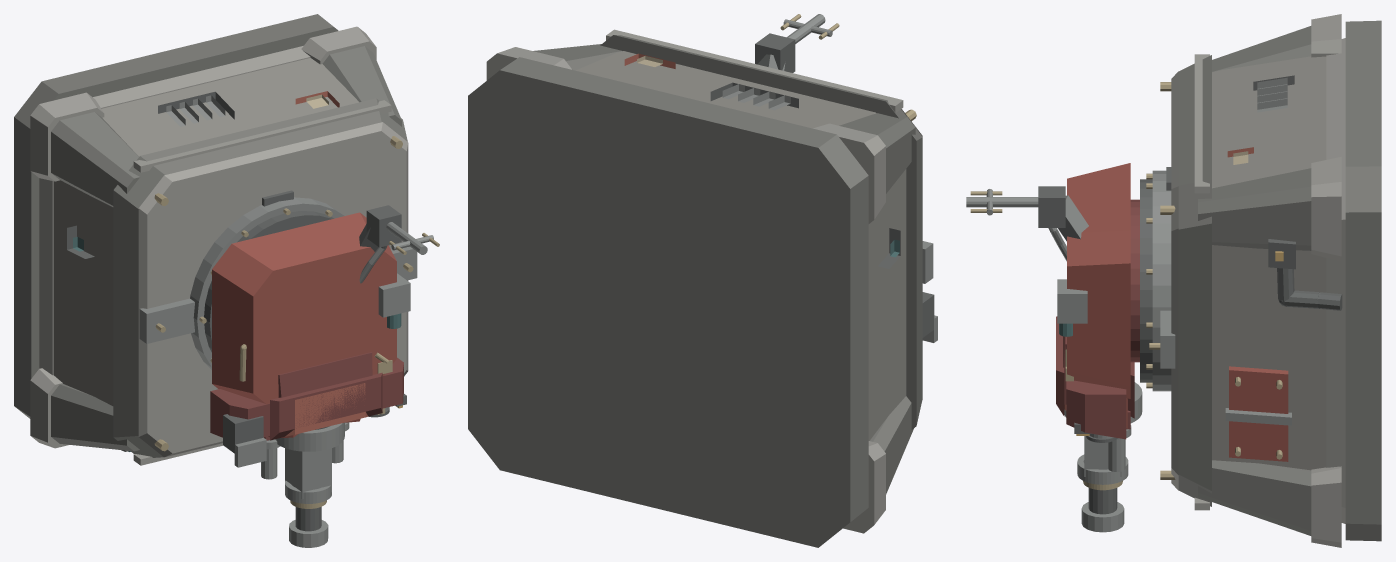
Rendered from martian_heavy_weapon_bunker_source_geometry_v05.glb.
The picture shows the model from 3 angles, left to right: view 1: azimuth 30°, elevation 25°; view 2: azimuth 150°, elevation 25°; view 3: azimuth 270°, elevation 25°; orthographic projection. The views are drawn at different scales.
Parts seen in each view (by area): view 1: 05_top_concrete_skin, 16_martian_red_turret_armor, 03_monolithic_bunker_mass, 01_foundation_granular_ferrocrete, 04_upper_blast_cap, 02_lower_blast_raft, 06_corner_armor_buttress_WN, 06_corner_armor_buttress_WS, 13_ring_lower_bearing_seat, 63_armored_turret_front_brow, 07_corner_buttress_foot_WN, 06_corner_armor_buttress_EN (+20 smaller); view 2: 01_foundation_granular_ferrocrete, 03_monolithic_bunker_mass, 04_upper_blast_cap, 07_corner_buttress_foot_WN, 06_corner_armor_buttress_WN, 06_corner_armor_buttress_WS, 07_corner_buttress_foot_WS, 54_north_slab_anchor_strip, 31_antenna_base, 06_corner_armor_buttress_EN, 07_corner_buttress_foot_EN; view 3: 03_monolithic_bunker_mass, 01_foundation_granular_ferrocrete, 04_upper_blast_cap, 16_martian_red_turret_armor, 06_corner_armor_buttress_EN, 02_lower_blast_raft, 06_corner_armor_buttress_ES, 55_east_wall_controller_armor, 13_ring_lower_bearing_seat, 05_top_concrete_skin, 07_corner_buttress_foot_EN, 18_turret_front_cheek_E (+21 smaller).
Part boxes in pixels (x1=…): 05_top_concrete_skin: x1=138, y1=122, x2=408, y2=457; 16_martian_red_turret_armor: x1=212, y1=212, x2=396, y2=404; 03_monolithic_bunker_mass: x1=53, y1=58, x2=358, y2=405; 01_foundation_granular_ferrocrete: x1=14, y1=14, x2=338, y2=418; 04_upper_blast_cap: x1=113, y1=98, x2=407, y2=457; 02_lower_blast_raft: x1=39, y1=46, x2=310, y2=375; 06_corner_armor_buttress_WN: x1=51, y1=112, x2=139, y2=206; 06_corner_armor_buttress_WS: x1=51, y1=383, x2=139, y2=451; 13_ring_lower_bearing_seat: x1=190, y1=197, x2=344, y2=369; 63_armored_turret_front_brow: x1=270, y1=372, x2=382, y2=440; 07_corner_buttress_foot_WN: x1=30, y1=92, x2=104, y2=181; 06_corner_armor_buttress_EN: x1=322, y1=46, x2=401, y2=126; 01_foundation_granular_ferrocrete: x1=468, y1=57, x2=868, y2=547; 03_monolithic_bunker_mass: x1=575, y1=51, x2=906, y2=440; 04_upper_blast_cap: x1=600, y1=35, x2=922, y2=429; 07_corner_buttress_foot_WN: x1=813, y1=123, x2=885, y2=223; 06_corner_armor_buttress_WN: x1=839, y1=113, x2=915, y2=193; 06_corner_armor_buttress_WS: x1=870, y1=396, x2=913, y2=494; 07_corner_buttress_foot_WS: x1=843, y1=441, x2=885, y2=533; 54_north_slab_anchor_strip: x1=606, y1=29, x2=903, y2=112; 31_antenna_base: x1=755, y1=33, x2=795, y2=72; 06_corner_armor_buttress_EN: x1=533, y1=44, x2=622, y2=70; 07_corner_buttress_foot_EN: x1=486, y1=47, x2=572, y2=80; 03_monolithic_bunker_mass: x1=1212, y1=56, x2=1326, y2=470; 01_foundation_granular_ferrocrete: x1=1345, y1=20, x2=1381, y2=541; 04_upper_blast_cap: x1=1178, y1=55, x2=1211, y2=506; 16_martian_red_turret_armor: x1=1067, y1=163, x2=1130, y2=398; 06_corner_armor_buttress_EN: x1=1198, y1=168, x2=1311, y2=250; 02_lower_blast_raft: x1=1326, y1=38, x2=1345, y2=523; 06_corner_armor_buttress_ES: x1=1198, y1=460, x2=1311, y2=535; 55_east_wall_controller_armor: x1=1229, y1=366, x2=1288, y2=461; 13_ring_lower_bearing_seat: x1=1152, y1=170, x2=1171, y2=391; 05_top_concrete_skin: x1=1171, y1=71, x2=1178, y2=490; 07_corner_buttress_foot_EN: x1=1311, y1=157, x2=1341, y2=261; 18_turret_front_cheek_E: x1=1066, y1=380, x2=1126, y2=439.
Bounding box in the file's own units: 3.04 × 3.44 × 3.01.
